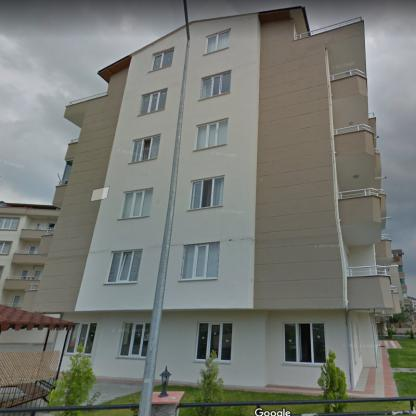door: (12, 296, 20, 307), (28, 246, 36, 254), (35, 222, 42, 230), (34, 271, 40, 279)
window: (284, 323, 325, 363), (196, 322, 231, 361), (181, 244, 219, 278), (106, 250, 140, 282), (190, 178, 223, 209), (119, 323, 148, 358), (195, 120, 227, 150), (66, 323, 96, 355), (121, 190, 152, 218), (200, 72, 230, 99), (130, 136, 160, 163), (140, 90, 166, 115), (205, 30, 229, 53), (152, 51, 173, 70), (1, 217, 20, 230), (1, 241, 12, 255), (20, 269, 28, 279)
